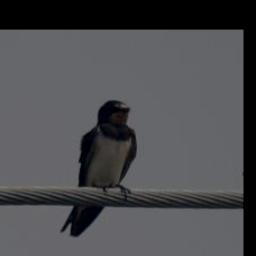Swallow: (60, 99, 137, 236)
